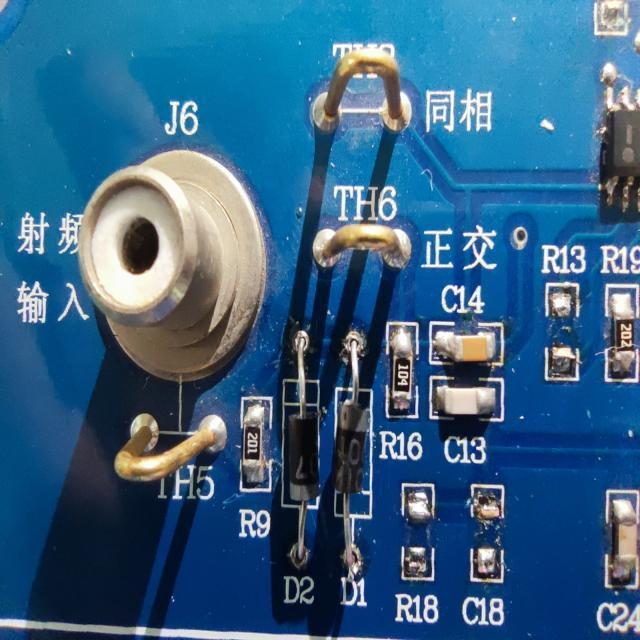Missing component: (459, 476, 510, 636), (394, 475, 441, 630), (539, 240, 587, 390), (597, 240, 640, 391)
